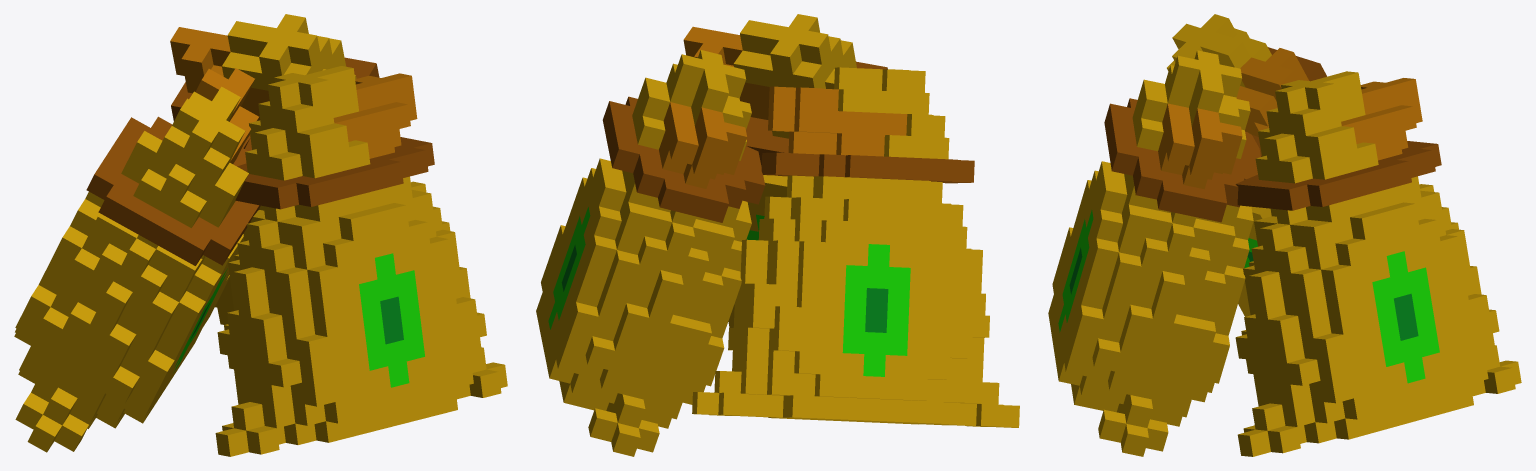
Rendered from Bags of Gems.fbx.
3 renders of one model, left to right at view 1: azimuth 30°, elevation 25°; view 2: azimuth 150°, elevation 25°; view 3: azimuth 270°, elevation 25°, orthographic.
Visible parts, largest first — view 1: Untitled.002; view 2: Untitled.002; view 3: Untitled.002.
Part boxes in pixels (x1,y1,x2,y2): Untitled.002: (14, 14, 507, 456); Untitled.002: (536, 14, 1019, 456); Untitled.002: (1048, 14, 1521, 456).
Size of the model in its own units: 518 by 381 by 487.
